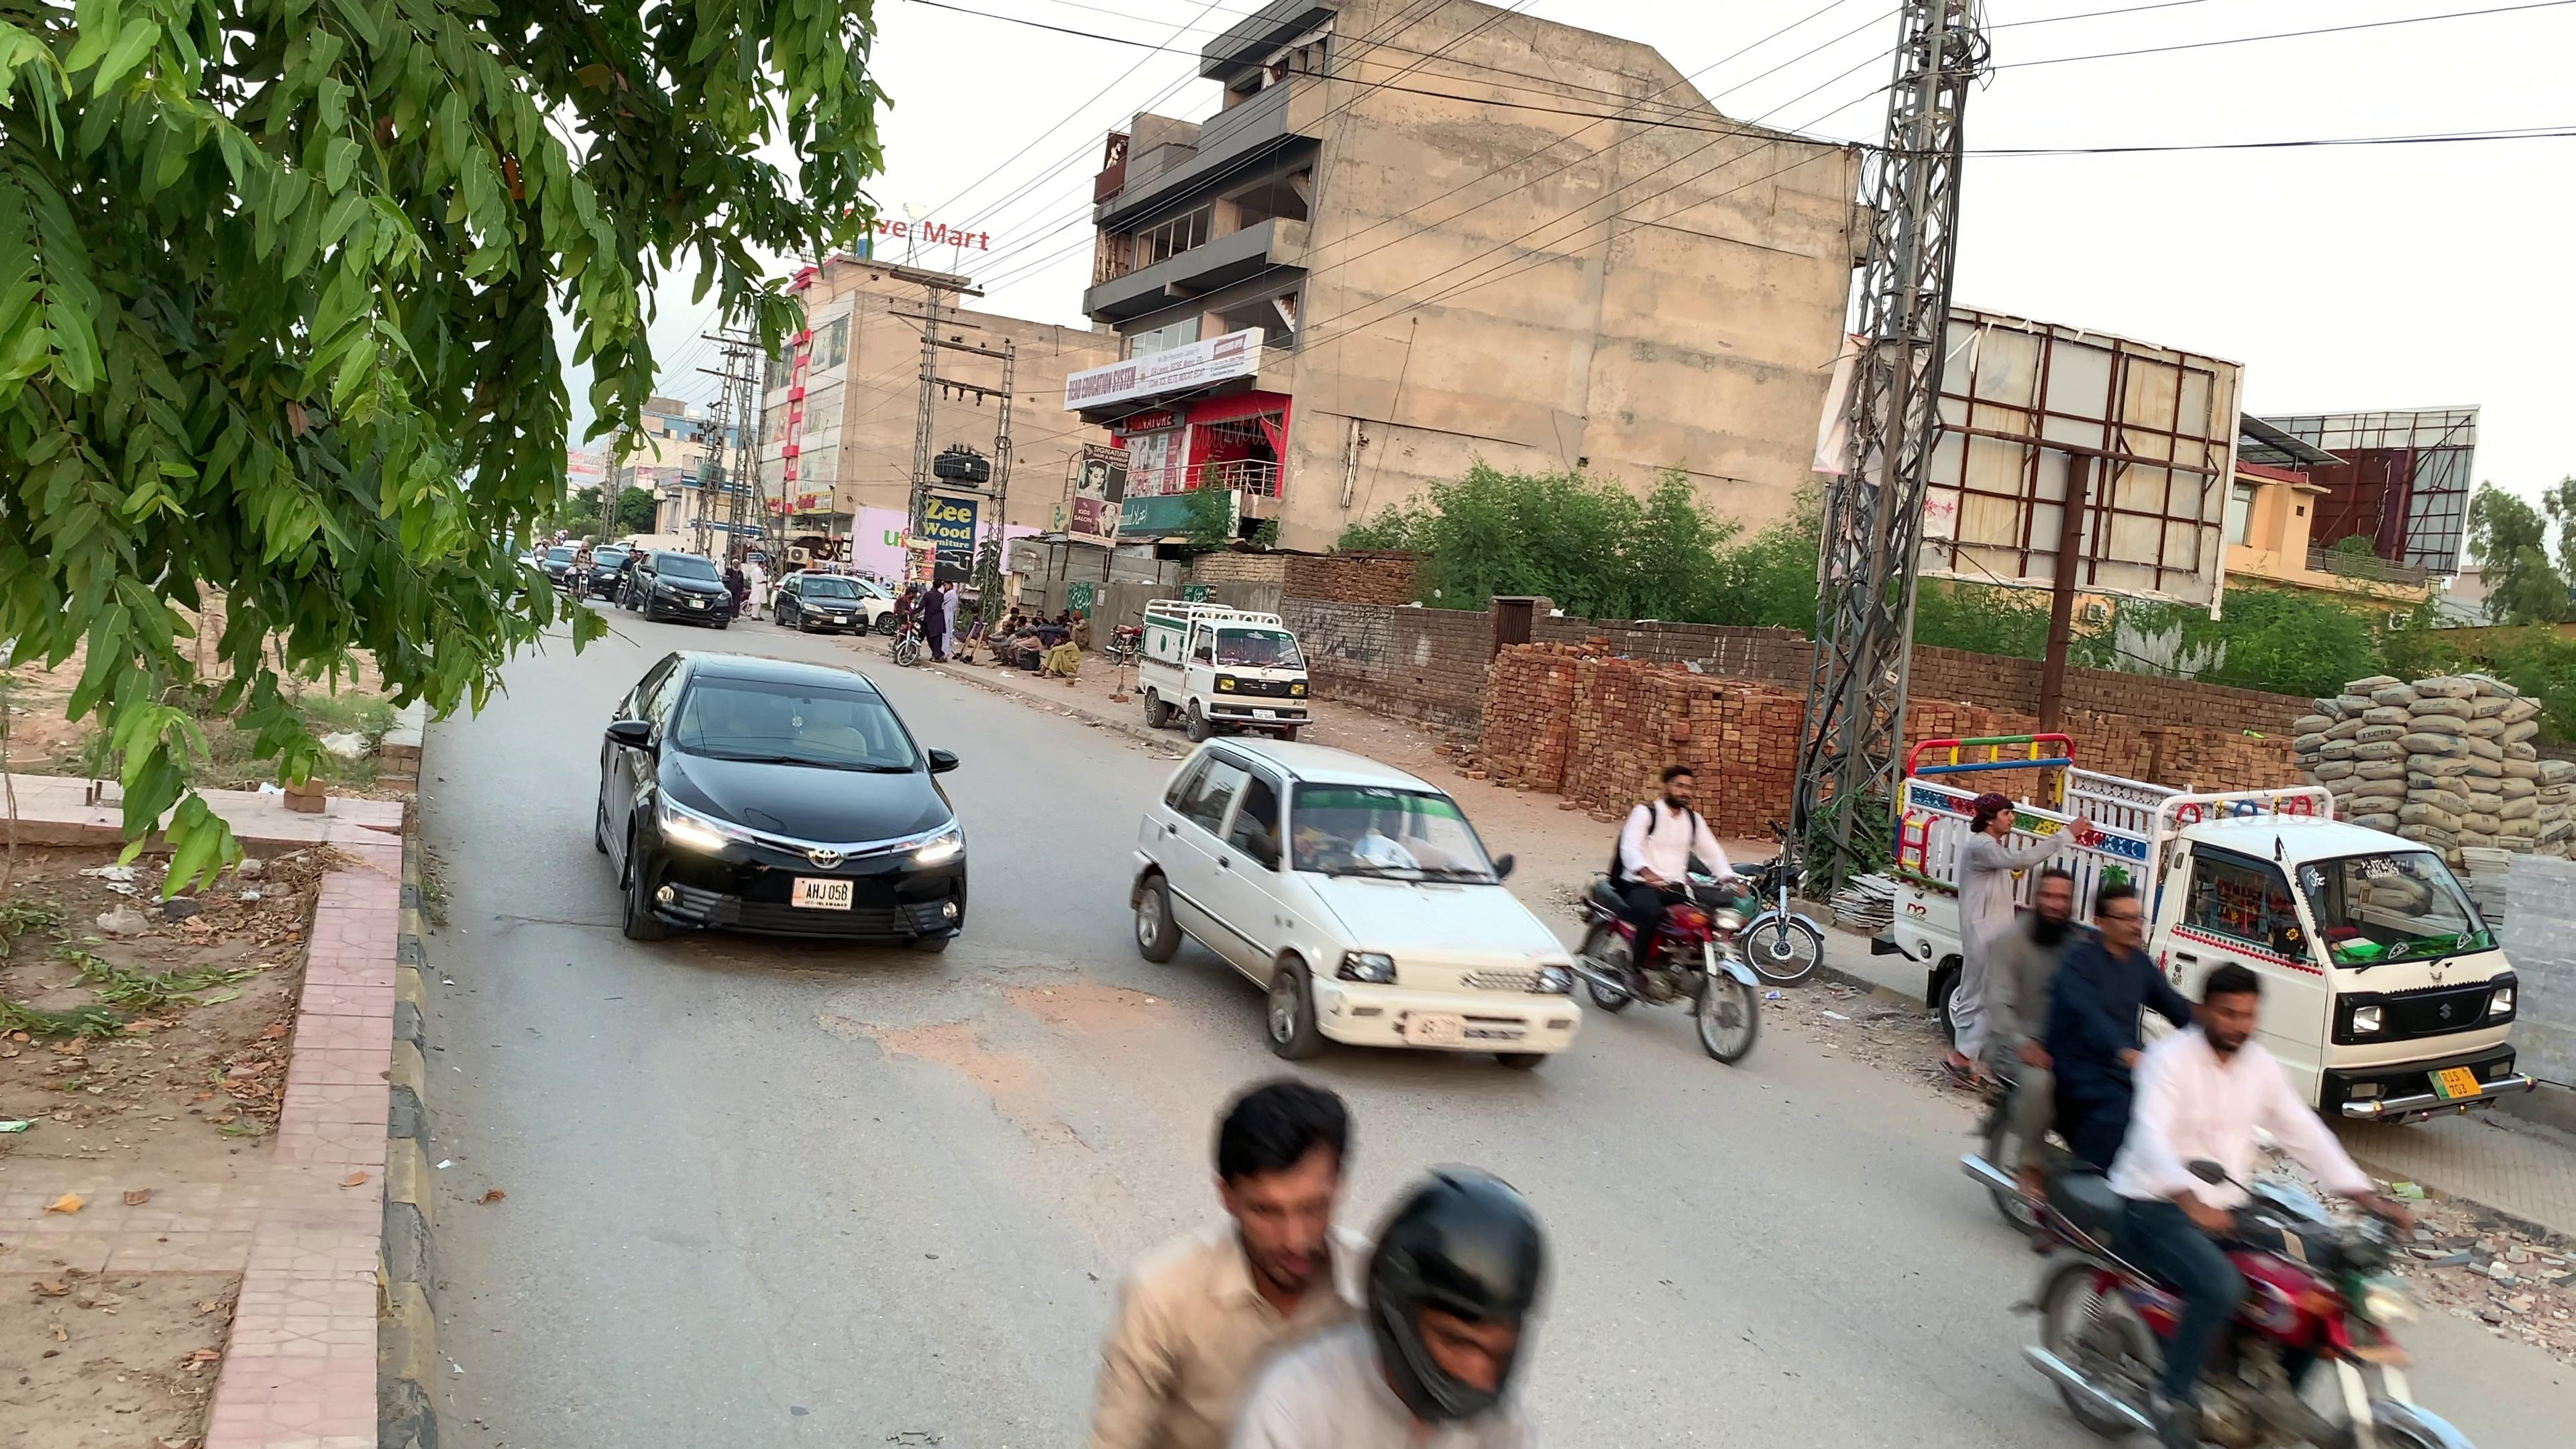windshield: (669, 674, 924, 771), (1292, 775, 1504, 879)
